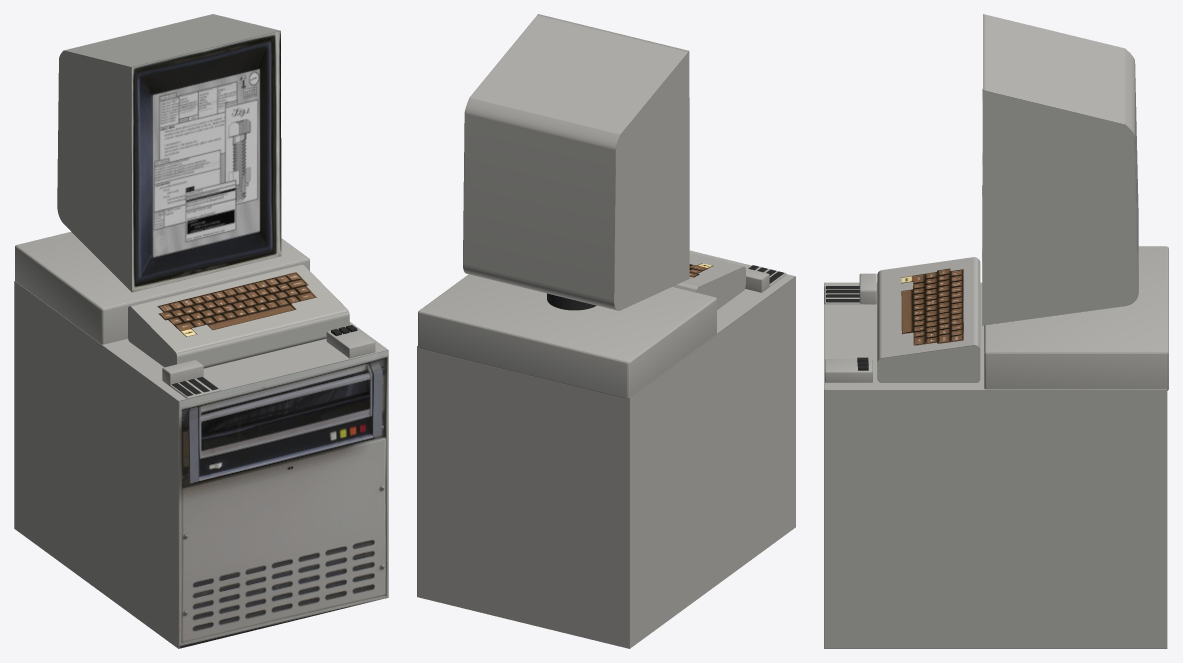
File: xerox-alto.glb
The picture shows the model from 3 angles, left to right: view 1: azimuth 30°, elevation 25°; view 2: azimuth 150°, elevation 25°; view 3: azimuth 270°, elevation 25°; orthographic projection. The views are drawn at different scales.
Parts seen in each view (by area): view 1: Cube_11; view 2: Cube_11; view 3: Cube_11.
Part boxes in pixels (bbox=[...]): Cube_11: bbox=[14, 14, 388, 648]; Cube_11: bbox=[417, 14, 795, 648]; Cube_11: bbox=[824, 14, 1168, 648].
Size of the model in its own units: 0.5505 by 1.3 by 0.7486.
1 material, 1 textured.
